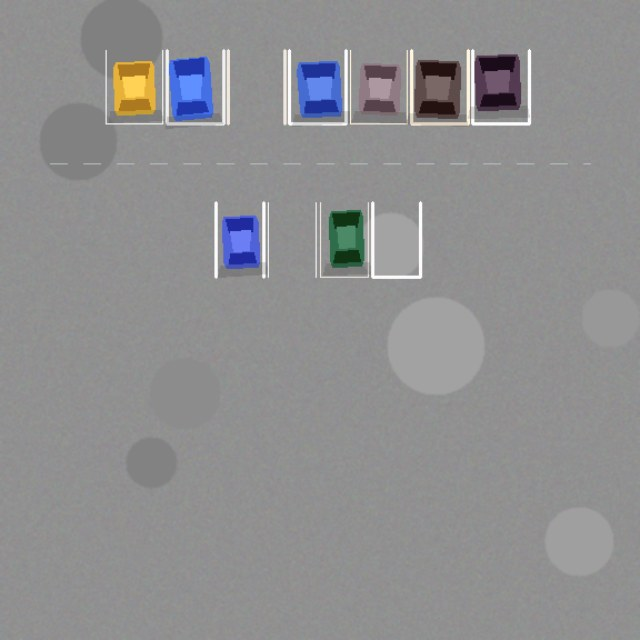space-empty: (228, 50, 284, 123), (268, 202, 316, 277), (372, 202, 420, 277)
space-occupied: (289, 50, 346, 123), (350, 50, 407, 123), (411, 50, 468, 123), (472, 50, 529, 123), (106, 50, 162, 123), (167, 50, 223, 123), (320, 202, 368, 277), (216, 202, 263, 277)
